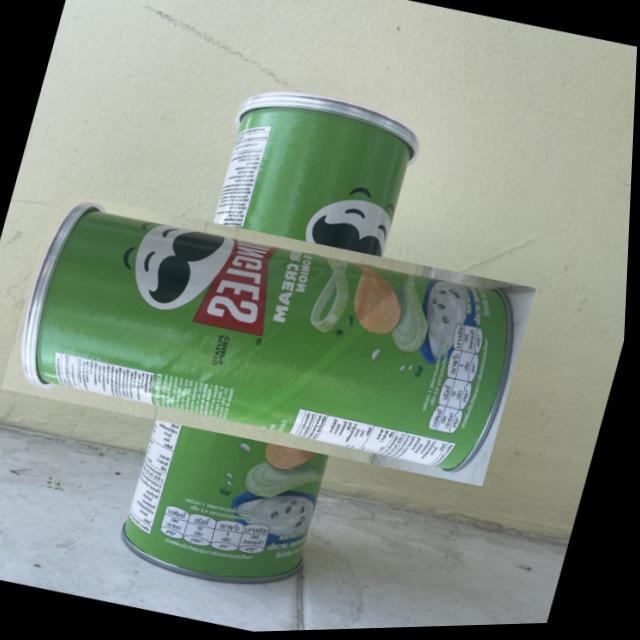a pringles: (54, 124, 490, 555)
